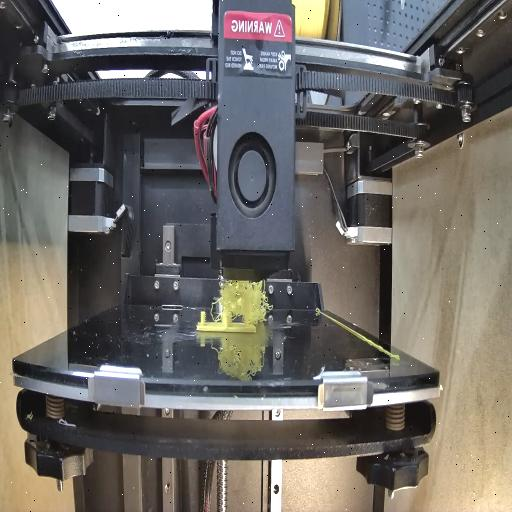spaghetti: (208, 275, 267, 325)
